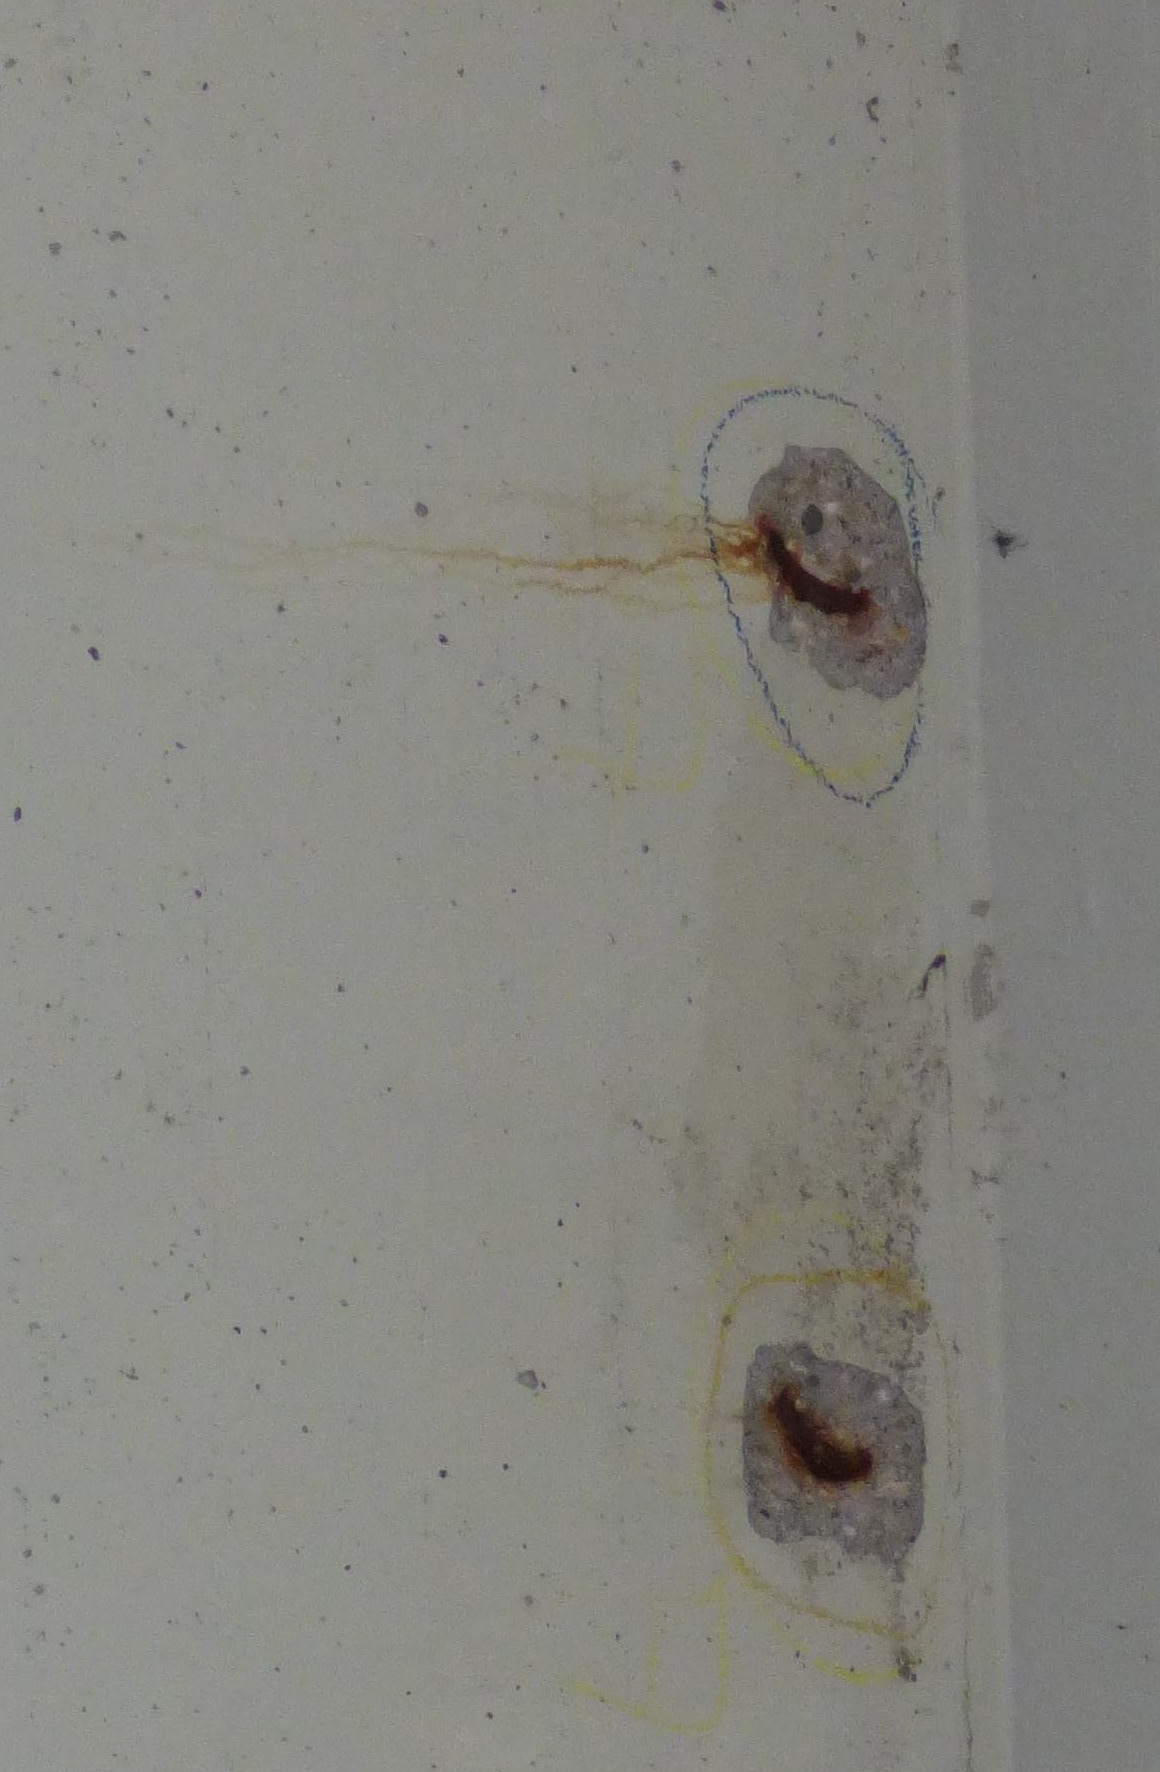Exposed reinforcement: (772, 1388, 873, 1486), (766, 528, 873, 617)
Spalling: (748, 444, 928, 702), (741, 1341, 928, 1566)
